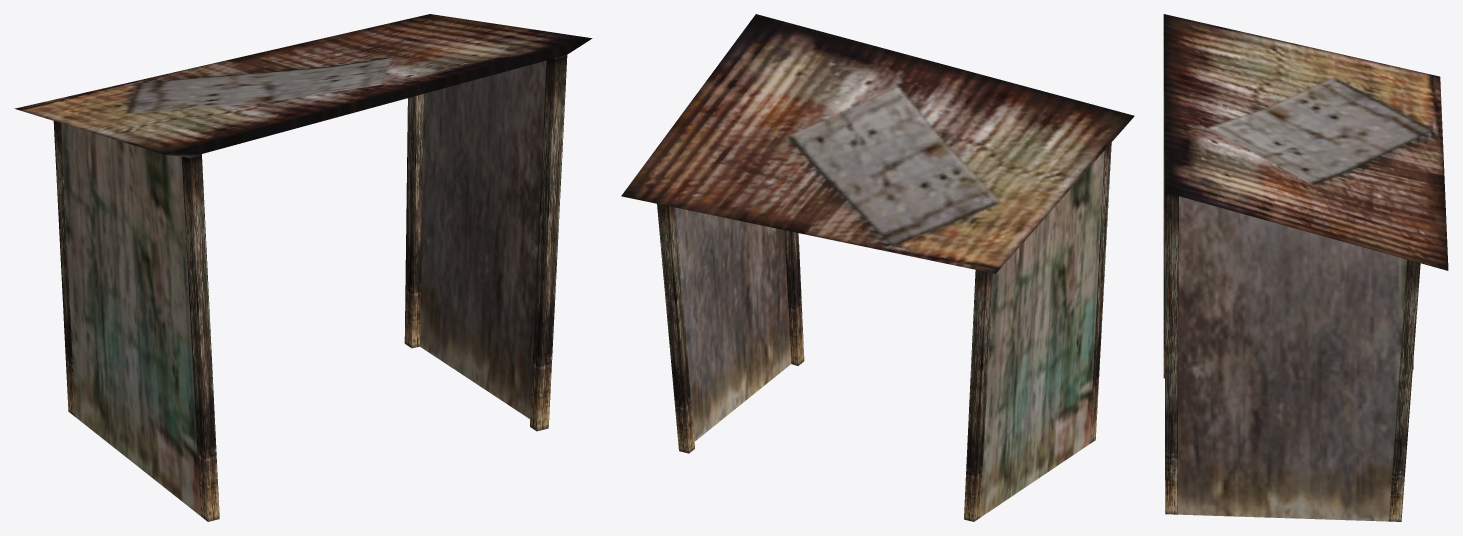
The model's file is MogShd3.glb.
The picture shows the model from 3 angles, left to right: view 1: azimuth 30°, elevation 25°; view 2: azimuth 150°, elevation 25°; view 3: azimuth 270°, elevation 25°; orthographic projection. The views are drawn at different scales.
Visible parts, largest first — view 1: _MogShd3; view 2: _MogShd3; view 3: _MogShd3.
Boxes of the visible parts, left/top/right/bottom form: _MogShd3: left=14, top=14, right=592, bottom=521; _MogShd3: left=621, top=14, right=1134, bottom=521; _MogShd3: left=1163, top=14, right=1448, bottom=521.
Bounding box in the file's own units: 3.7 × 3.2 × 2.36.
Materials: 2 (2 with a texture image).
